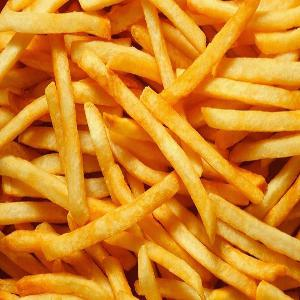fries: (3, 3, 299, 300)
